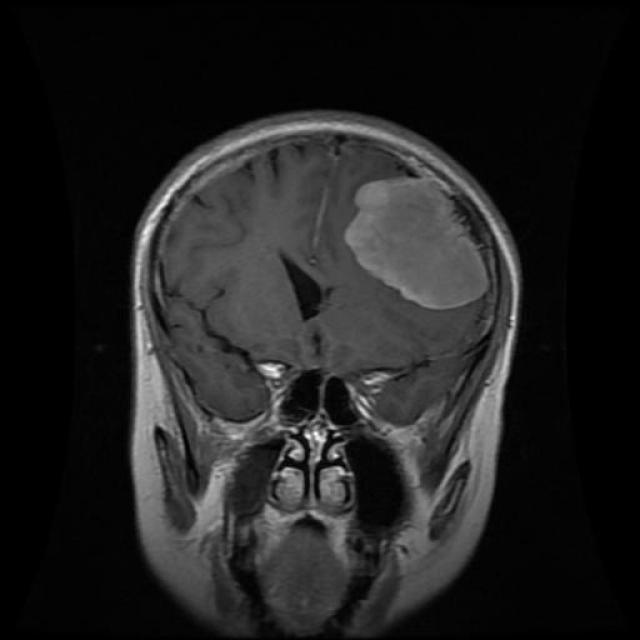Brain-Tumor: (338, 146, 499, 334)
